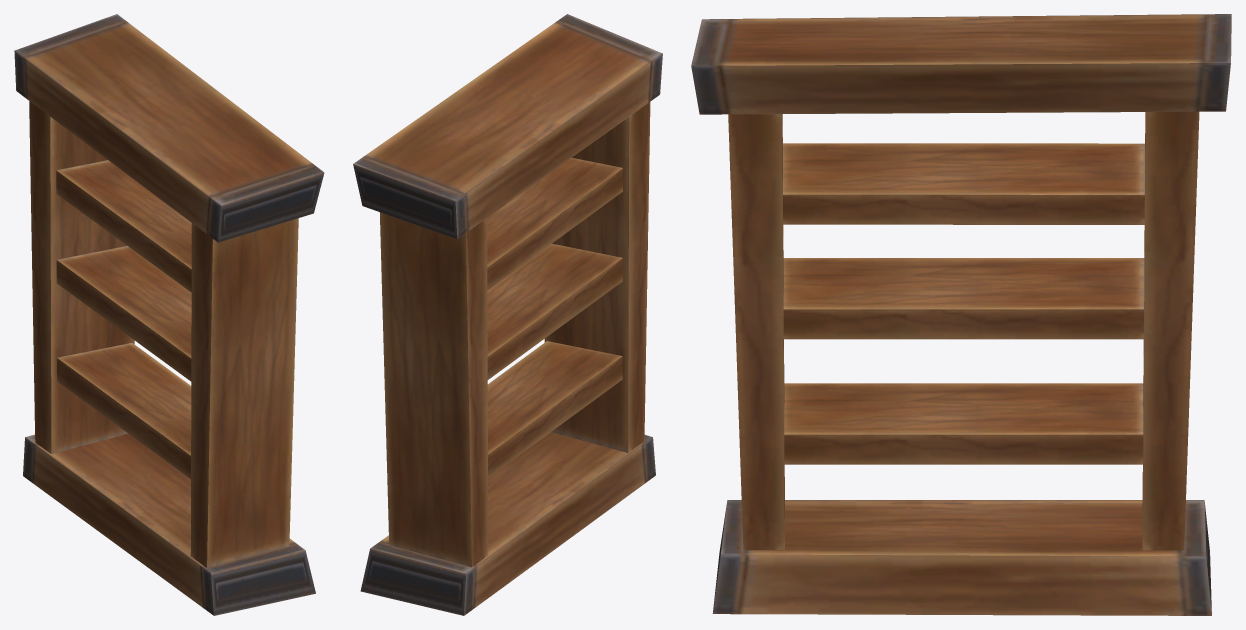
File: bookshelfdwarvensimple03.obj
3 renders of one model, left to right at view 1: azimuth 30°, elevation 25°; view 2: azimuth 150°, elevation 25°; view 3: azimuth 270°, elevation 25°, orthographic. The views are drawn at different scales.
Size of the model in its own units: 0.8642 by 3.48 by 3.08.
Materials: 1 (1 with a texture image).
